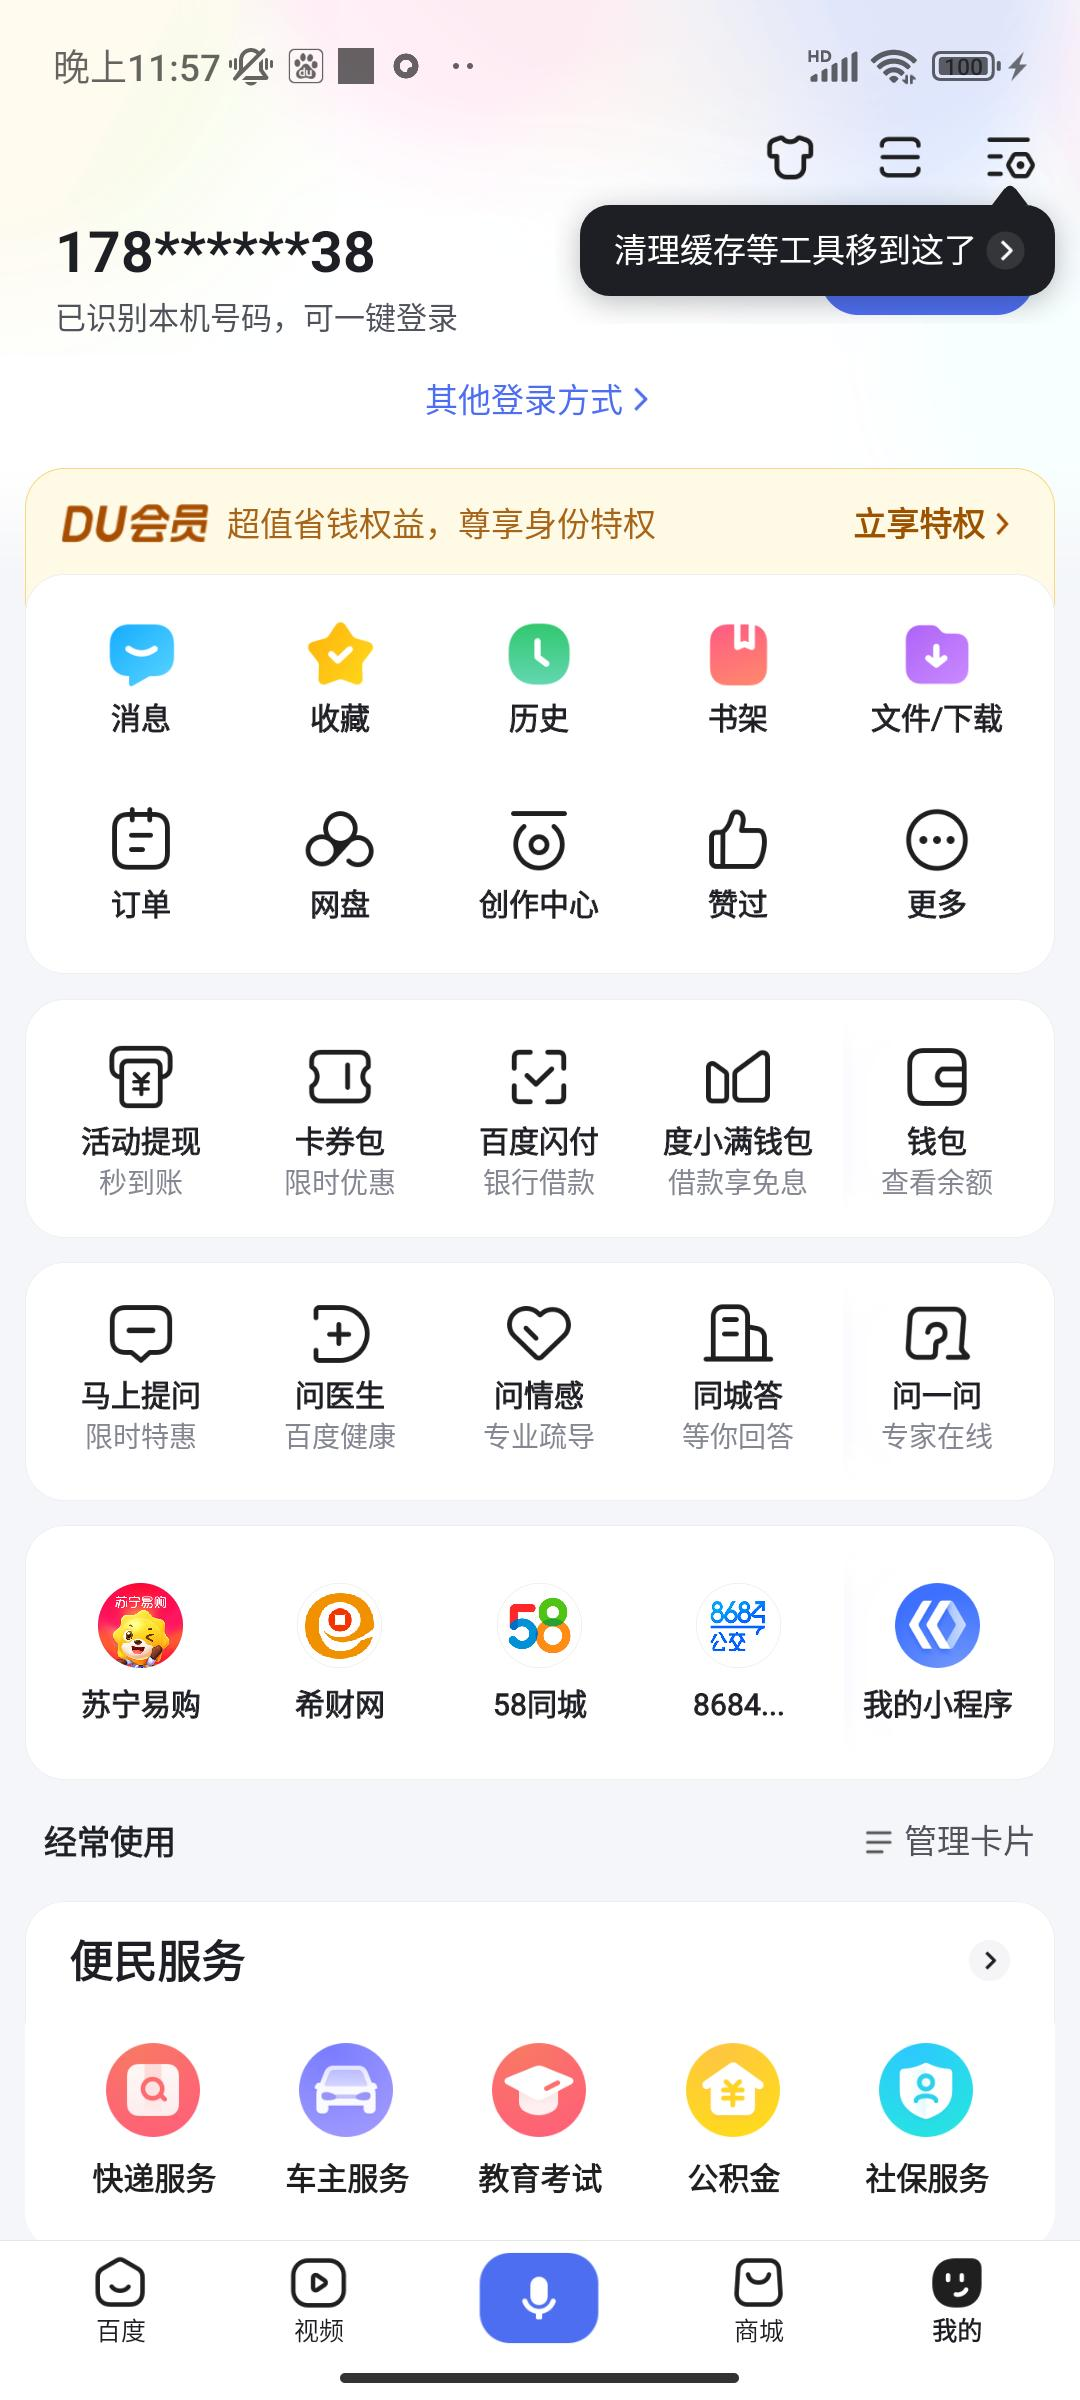ui_group: (26, 465, 1059, 582), (646, 1019, 826, 1218), (653, 1281, 828, 1485), (861, 1551, 1033, 1756), (251, 1560, 425, 1753), (252, 1280, 419, 1474), (460, 1284, 626, 1477), (655, 1558, 811, 1760), (464, 2033, 618, 2235), (252, 1019, 412, 1212), (64, 1022, 229, 1208), (464, 1558, 620, 1754), (64, 1287, 226, 1474), (470, 1026, 626, 1214), (872, 1283, 1016, 1485), (274, 2028, 421, 2226), (69, 1561, 223, 1746), (858, 2028, 997, 2233), (89, 2033, 236, 2226), (869, 1018, 1005, 1224), (670, 2028, 808, 2232), (676, 597, 823, 779), (473, 600, 616, 779), (869, 605, 1014, 781), (678, 788, 823, 954), (473, 788, 612, 957), (867, 793, 1011, 949), (84, 779, 213, 949), (83, 602, 214, 767), (288, 600, 412, 771), (286, 791, 408, 954)
